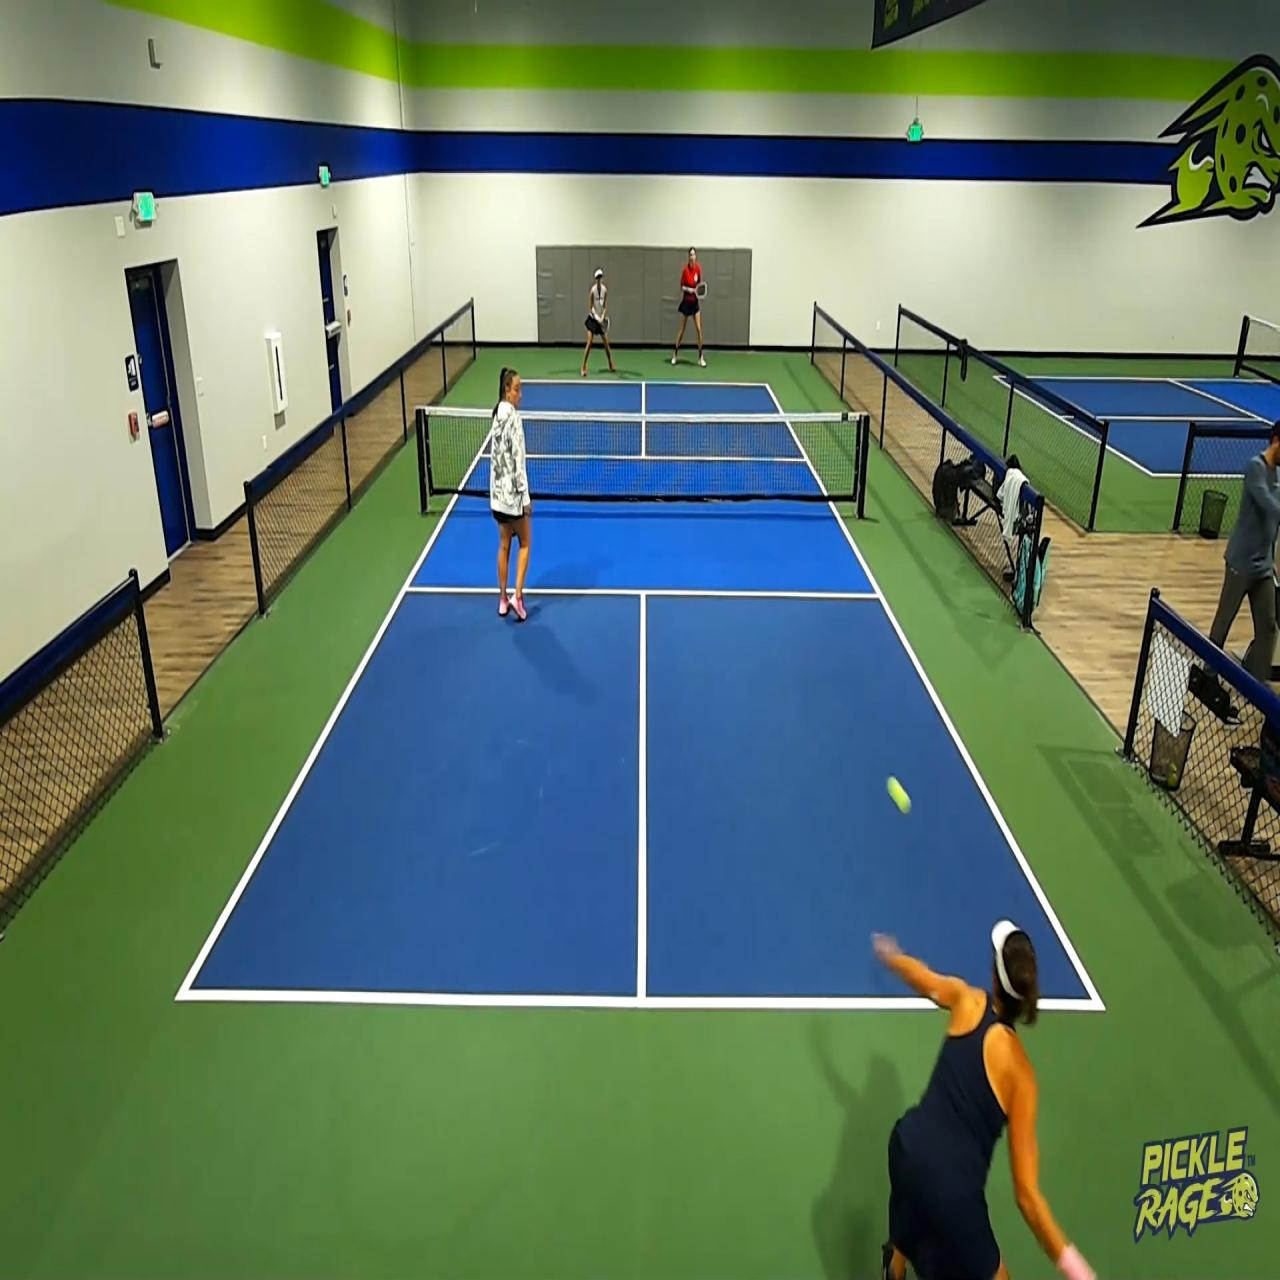Pickleball: (883, 767, 912, 817)
